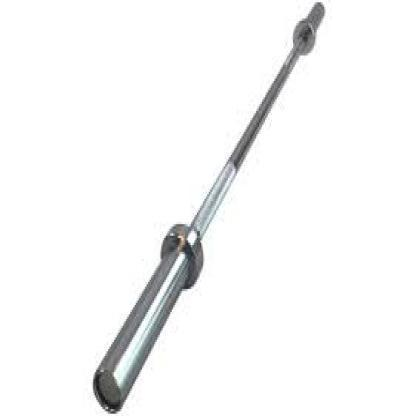Barbell: (86, 355, 135, 415)
